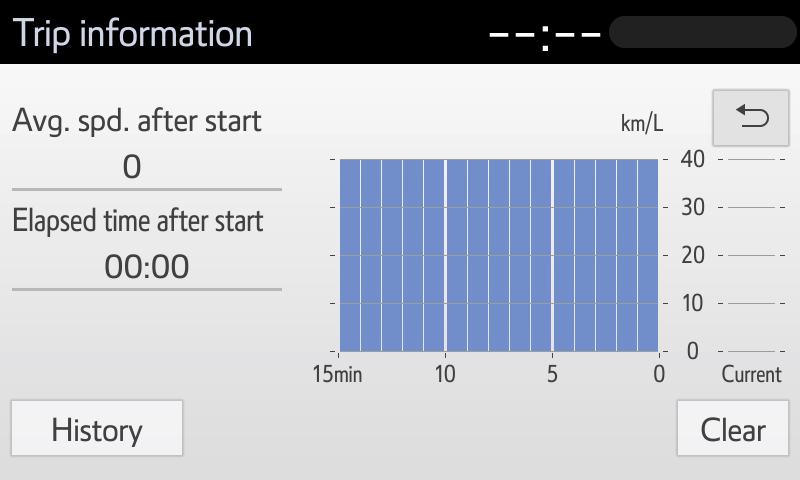touchPart: (10, 394, 189, 457), (675, 398, 792, 460)
untouchPart: (319, 94, 712, 387), (6, 97, 291, 305), (468, 13, 794, 55), (11, 15, 259, 54)
